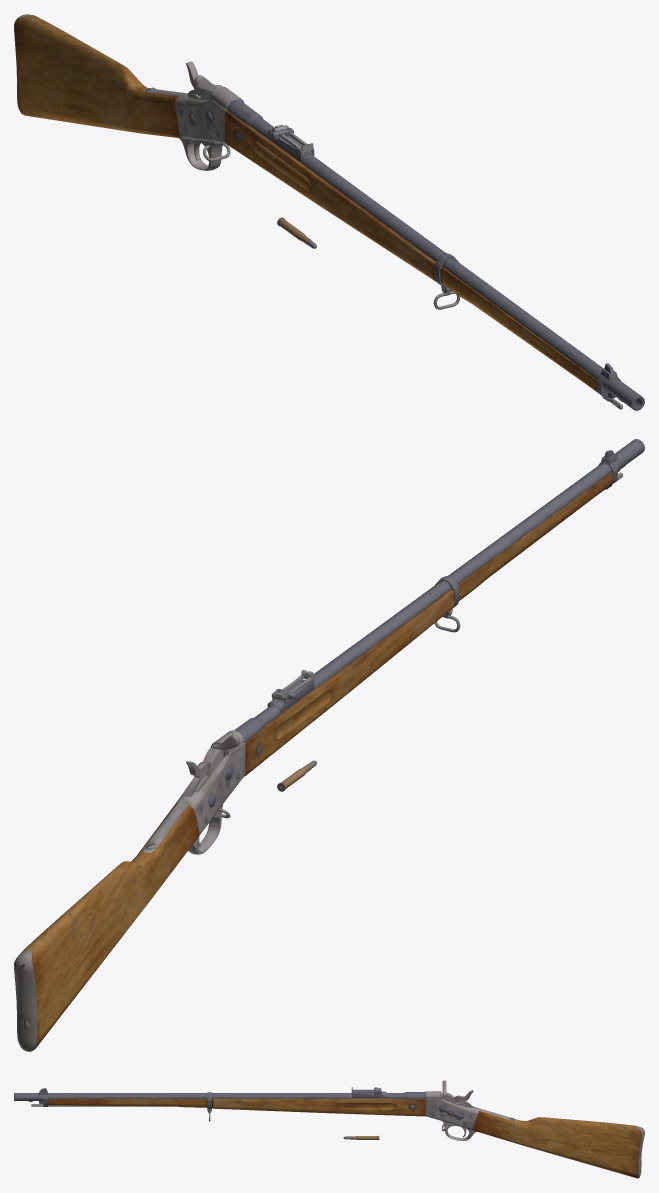
Rendered from fusil_remington_rolling_block.glb.
3 renders of one model, top to bottom at view 1: azimuth 30°, elevation 25°; view 2: azimuth 150°, elevation 25°; view 3: azimuth 270°, elevation 25°, orthographic. The views are drawn at different scales.
Parts seen in each view (by area): view 1: Stock; view 2: Stock; view 3: Stock, Hammer, Block.
Boxes of the visible parts, x1,y1,x2,y2 form: Stock: (14,14,644,410); Stock: (14,439,644,1051); Stock: (14,1087,644,1178); Hammer: (454,1090,473,1107); Block: (442,1080,456,1104).
Size of the model in its own units: 0.0525 by 0.2591 by 1.59.
Materials: 1 (1 with a texture image).
